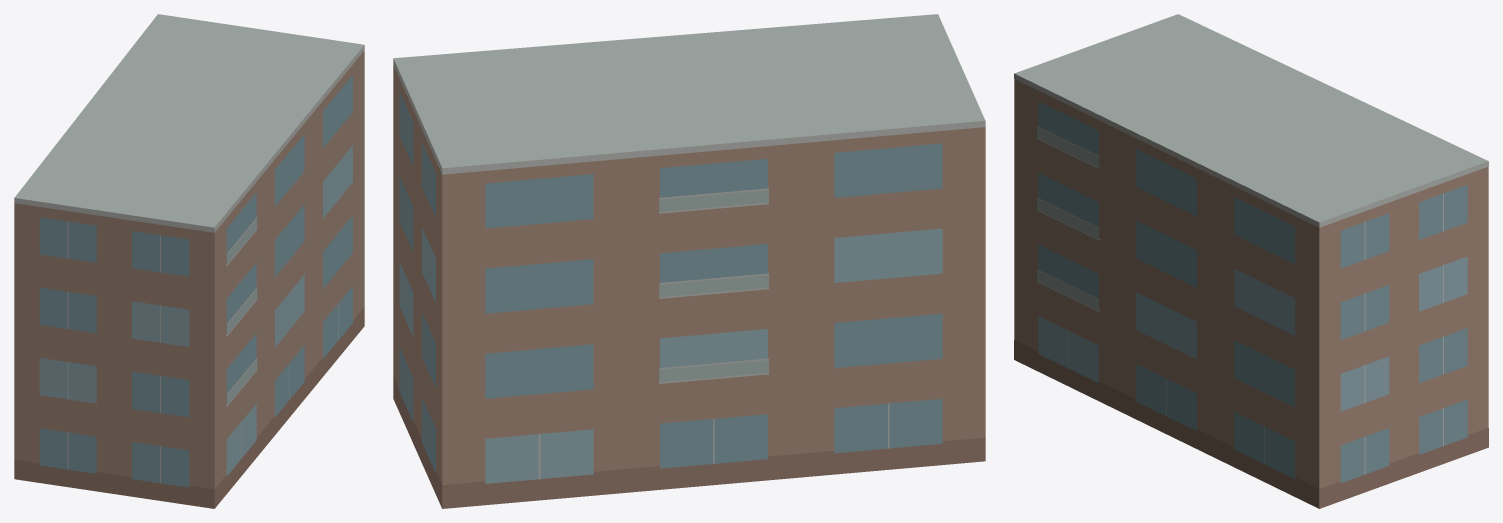
Rendered from survey-upis-32628183.glb.
3 views of the same model, side by side, from view 1: azimuth 30°, elevation 25°; view 2: azimuth 150°, elevation 25°; view 3: azimuth 270°, elevation 25° (orthographic). The views are drawn at different scales.
Visible parts, largest first — view 1: survey-upis-32628183.tmp; view 2: survey-upis-32628183.tmp; view 3: survey-upis-32628183.tmp.
Part boxes in pixels (left/top/right/bottom): survey-upis-32628183.tmp: left=14, top=14, right=364, bottom=508; survey-upis-32628183.tmp: left=393, top=14, right=985, bottom=508; survey-upis-32628183.tmp: left=1014, top=14, right=1488, bottom=508.
Size of the model in its own units: 20.63 by 13.2 by 19.83.
